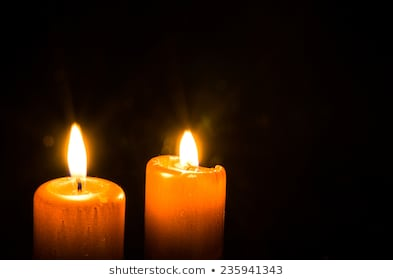Fire: (61, 119, 87, 187), (173, 121, 203, 173)
